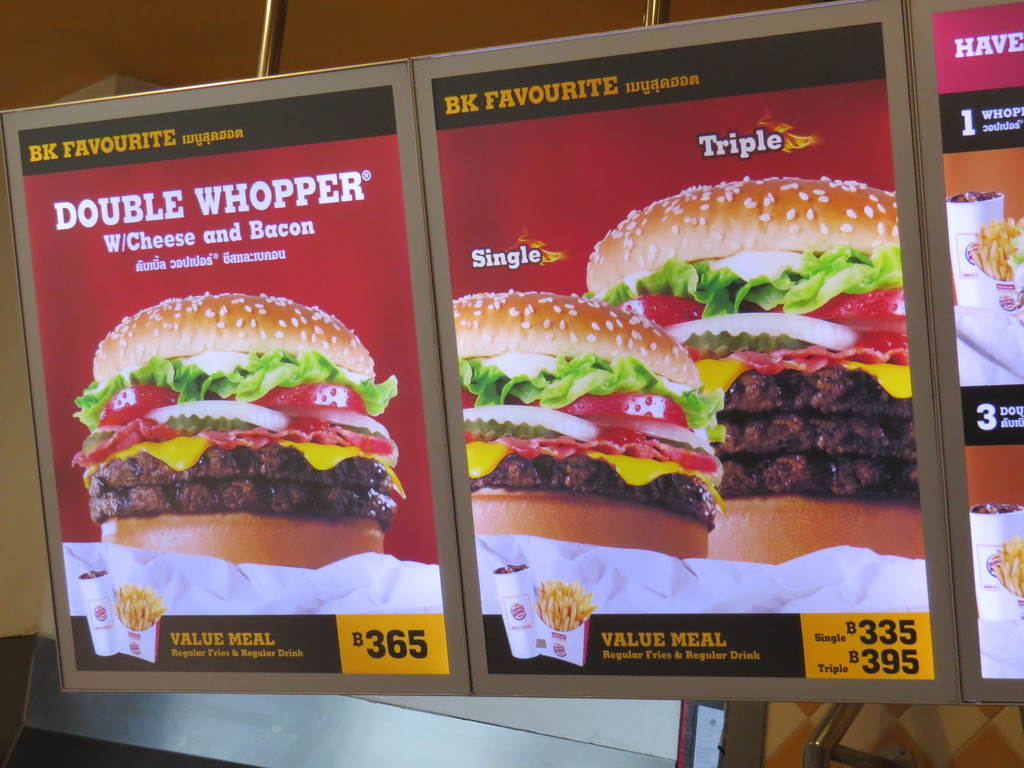Hamburger: (589, 180, 924, 565), (74, 293, 405, 568), (455, 289, 721, 558)
